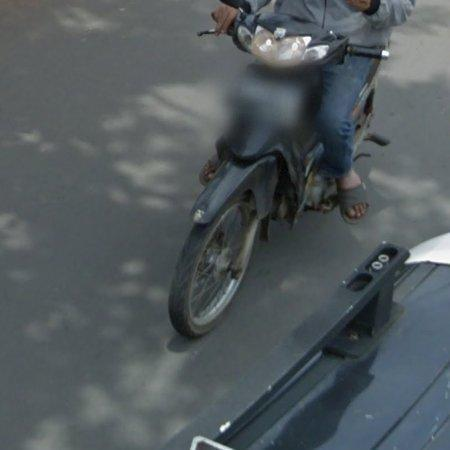motorcycles: (169, 12, 387, 337)
